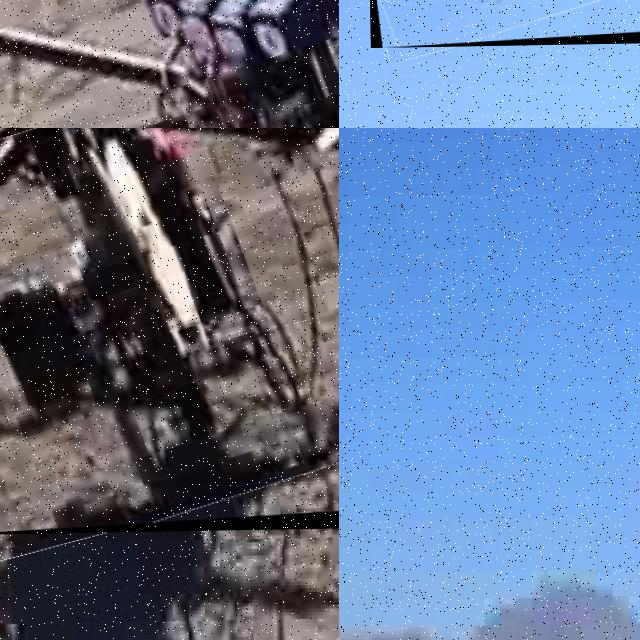drone: (0, 128, 339, 535), (0, 0, 339, 128), (368, 0, 640, 47)
